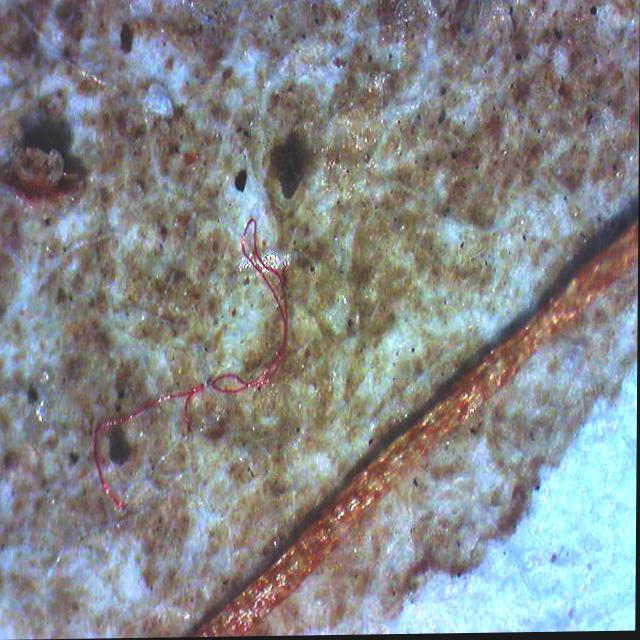microplastic: (63, 217, 344, 538)
